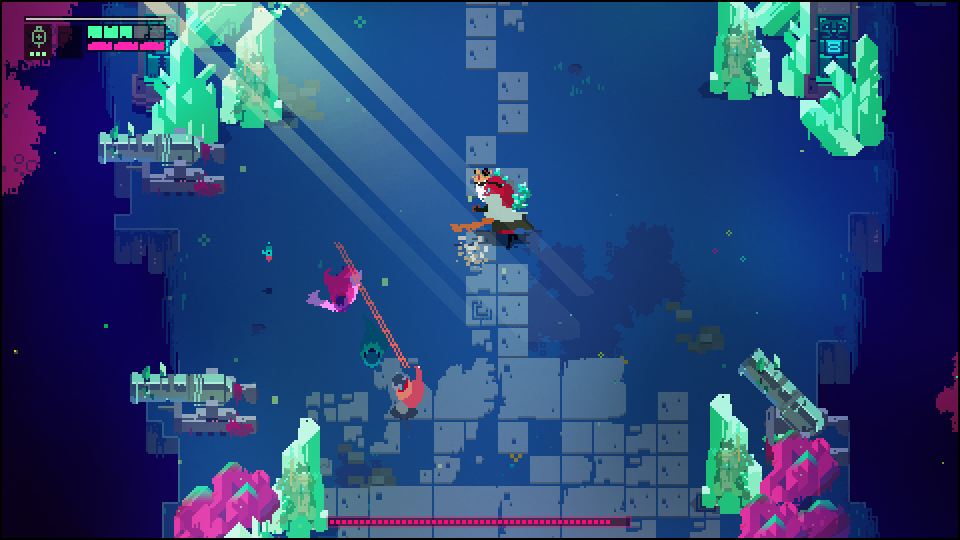hanged_man: (459, 160, 539, 250)
player: (385, 364, 427, 421)
